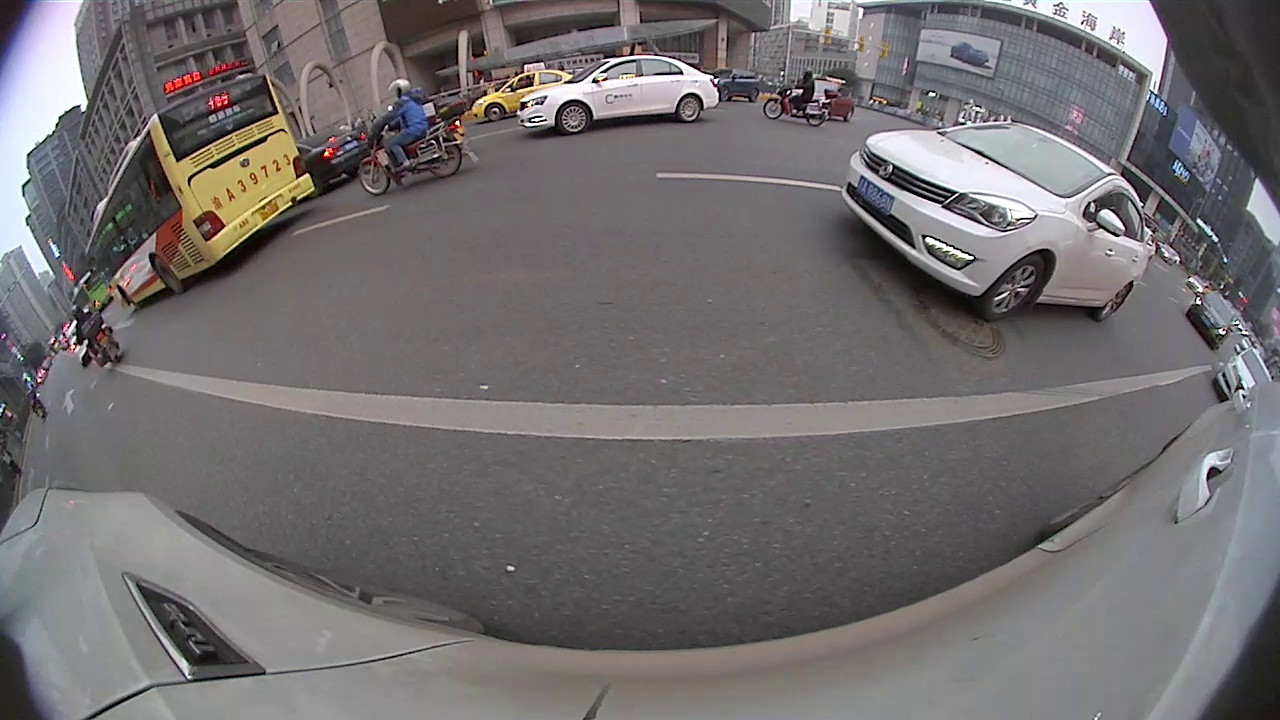bus: (81, 67, 322, 312)
car: (843, 120, 1158, 324), (514, 51, 719, 138), (1216, 350, 1279, 413), (1184, 294, 1240, 349)
front: (978, 251, 1045, 322), (356, 156, 394, 198), (557, 100, 592, 135), (763, 98, 785, 120), (484, 102, 503, 123)
rear: (1093, 282, 1133, 326), (149, 252, 187, 296), (428, 142, 465, 181), (675, 94, 702, 125), (803, 114, 829, 128)
rider: (354, 80, 469, 200), (762, 69, 830, 129), (69, 302, 121, 374)
